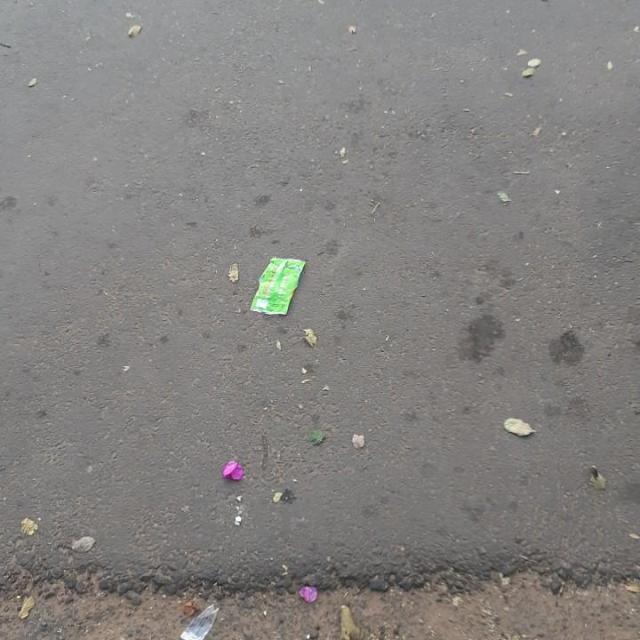litter: (249, 258, 306, 316), (181, 605, 220, 639)
